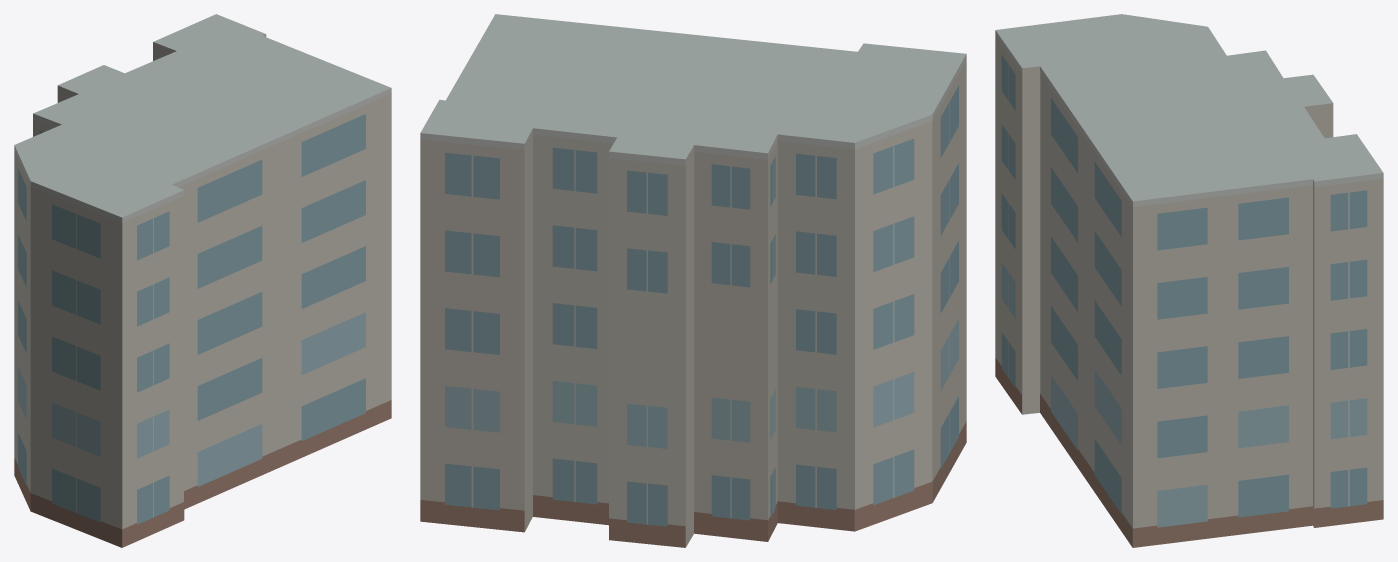
The model's file is survey-upis-33023314.glb.
The picture shows the model from 3 angles, left to right: view 1: azimuth 30°, elevation 25°; view 2: azimuth 150°, elevation 25°; view 3: azimuth 270°, elevation 25°; orthographic projection. The views are drawn at different scales.
Visible parts, largest first — view 1: survey-upis-33023314.tmp; view 2: survey-upis-33023314.tmp; view 3: survey-upis-33023314.tmp.
Part boxes in pixels (x1,y1,x2,y2): survey-upis-33023314.tmp: (14,14,391,547); survey-upis-33023314.tmp: (420,14,966,547); survey-upis-33023314.tmp: (995,14,1383,547).
Bounding box in the file's own units: 16.95 × 14.6 × 14.84.
